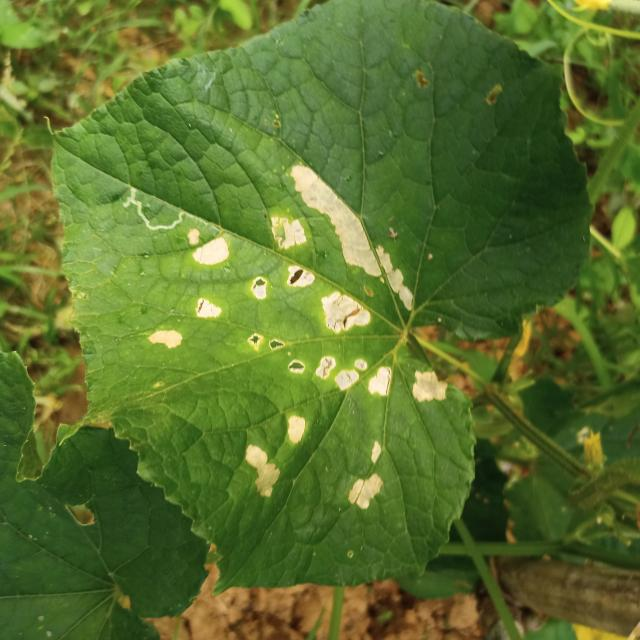disease_cucumber: (245, 163, 452, 407), (142, 230, 232, 350), (241, 410, 307, 501), (346, 441, 386, 515)
